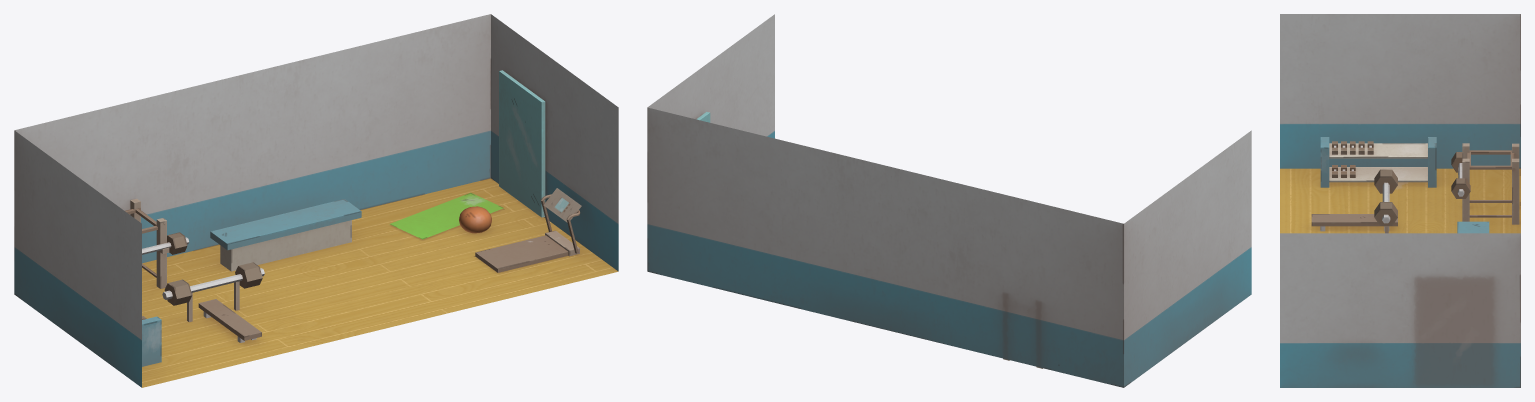
The model's file is BUILD_GYM_Inside.fbx.
3 views of the same model, side by side, from view 1: azimuth 30°, elevation 25°; view 2: azimuth 150°, elevation 25°; view 3: azimuth 270°, elevation 25° (orthographic). The views are drawn at different scales.
Visible parts, largest first — view 1: Cube.002, Cube.008, Cube.081, Circle, Plane, Cube.009, Cube.007, Cube.024, Cube.020, Circle.002, Circle.003; view 2: Cube.002; view 3: Cube.002, Circle, Cube.013, Cube.018, Cube.019, Circle.003, Cube.007, Cube.020, Cube.011, Cube.014, Cube.008, Cube.021 (+2 smaller).
Part boxes in pixels (x1=…): Cube.002: x1=14, y1=14, x2=618, y2=387; Cube.008: x1=210, y1=199, x2=361, y2=271; Cube.081: x1=499, y1=70, x2=545, y2=217; Circle: x1=162, y1=262, x2=264, y2=342; Plane: x1=389, y1=192, x2=503, y2=239; Cube.009: x1=475, y1=235, x2=568, y2=272; Cube.007: x1=142, y1=316, x2=161, y2=366; Cube.024: x1=459, y1=206, x2=491, y2=233; Cube.020: x1=156, y1=218, x2=169, y2=288; Circle.002: x1=543, y1=188, x2=581, y2=222; Circle.003: x1=142, y1=232, x2=188, y2=254; Cube.002: x1=647, y1=14, x2=1251, y2=387; Cube.002: x1=1280, y1=14, x2=1520, y2=387; Circle: x1=1311, y1=169, x2=1397, y2=233; Cube.013: x1=1329, y1=143, x2=1427, y2=158; Cube.018: x1=1329, y1=167, x2=1427, y2=182; Cube.019: x1=1512, y1=143, x2=1519, y2=224; Circle.003: x1=1451, y1=152, x2=1470, y2=198; Cube.007: x1=1320, y1=137, x2=1329, y2=187; Cube.020: x1=1458, y1=143, x2=1469, y2=221; Cube.011: x1=1428, y1=137, x2=1436, y2=187; Cube.014: x1=1332, y1=141, x2=1373, y2=154; Cube.008: x1=1457, y1=221, x2=1489, y2=233; Cube.021: x1=1469, y1=150, x2=1511, y2=169.
Size of the model in its own units: 1369 by 460 by 635.
Materials: 1 (1 with a texture image).
